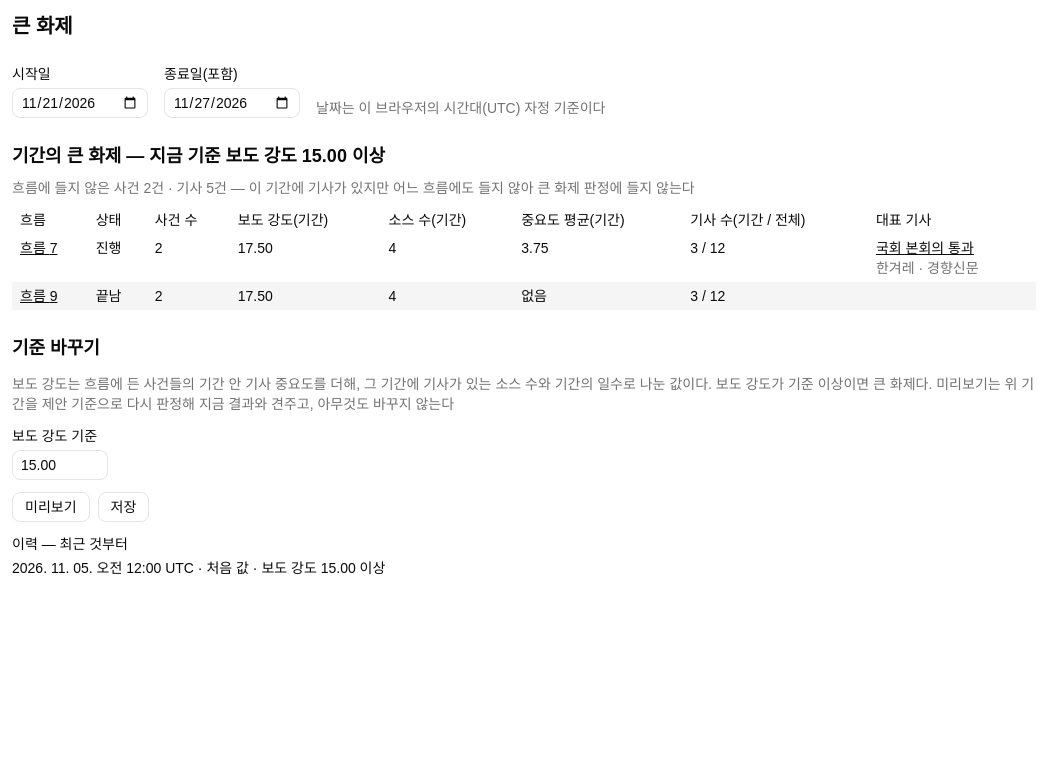
Test: BigStorylinesPage › 범위 밖 기준의 400 설명을 보인다
The image size is (1048, 780).
Replace the text in the field labelled "보도 강도 기준" with "0" at coordinates (60, 465), box 12,450 -> 108,480
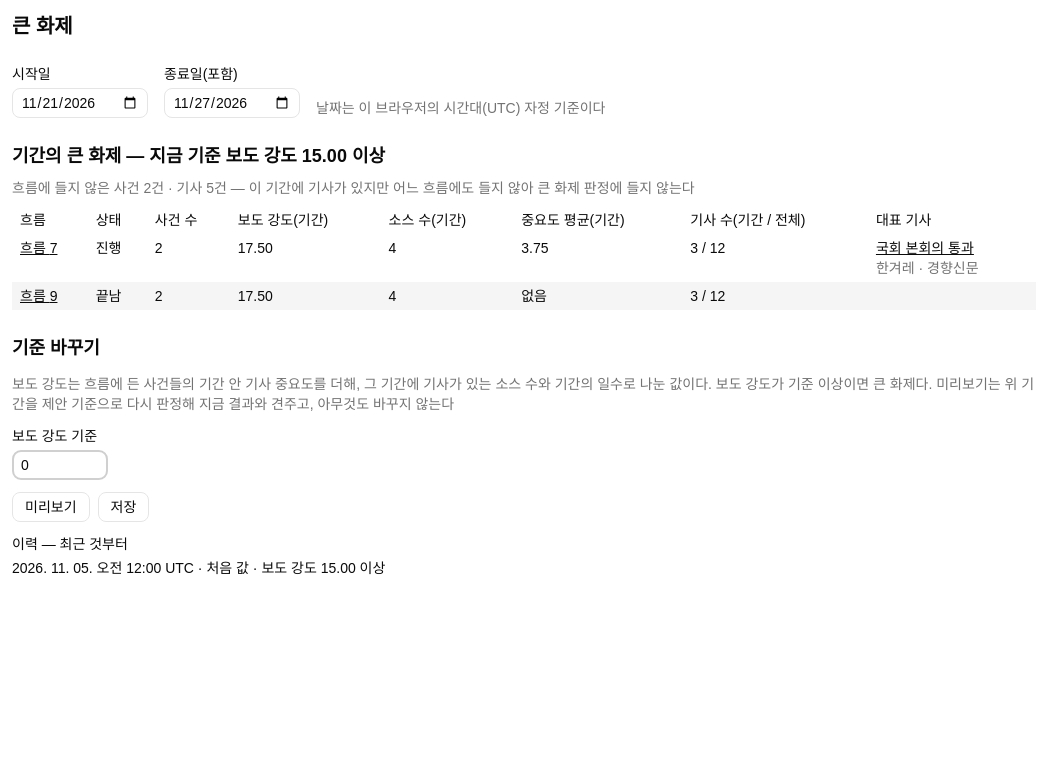
Click the button "미리보기" at coordinates (51, 507), box 12,492 -> 90,522
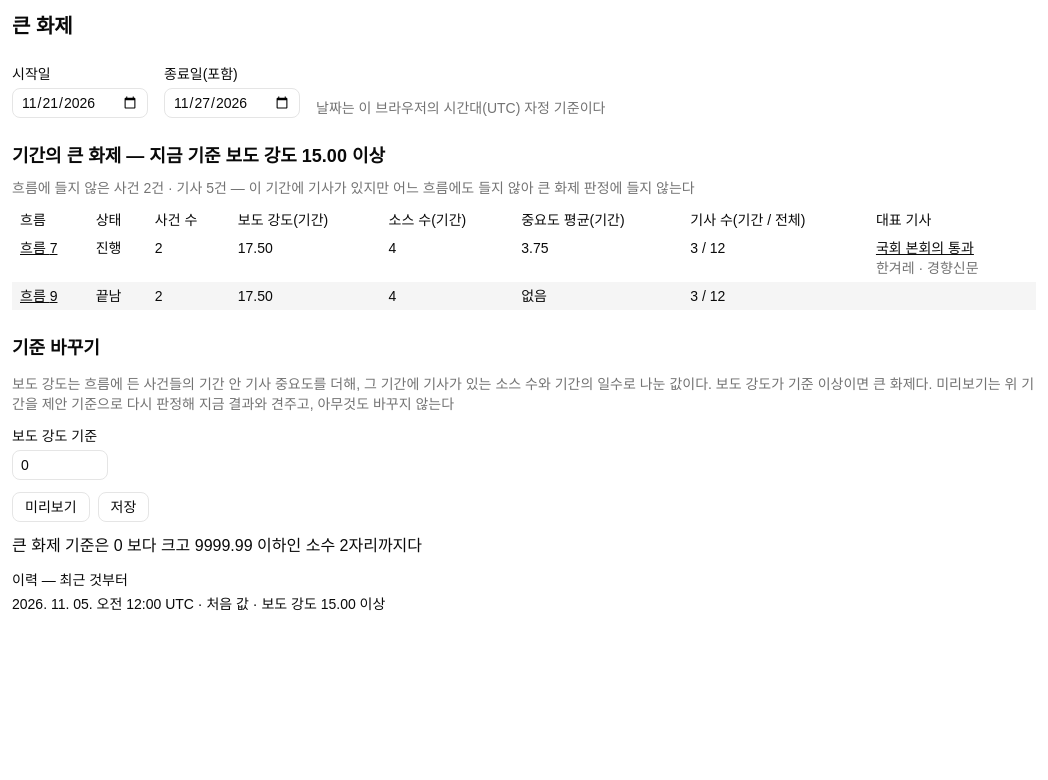
Expected: the button "저장" is disabled, 98,492 -> 149,522
Expected: the message reads "큰 화제 기준은 0 보다 크고 9999.99 이하인 소수 2자리까지다", 12,537 -> 422,554
